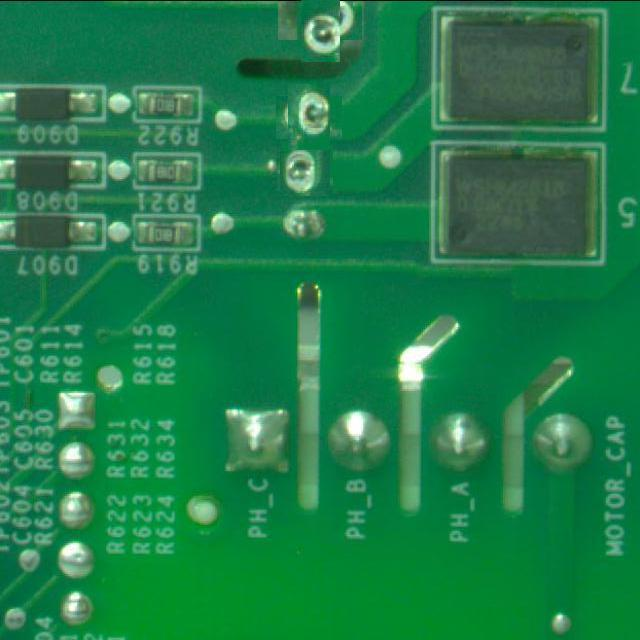lack_of_part: (289, 0, 350, 51), (282, 90, 336, 145), (279, 142, 332, 195)
